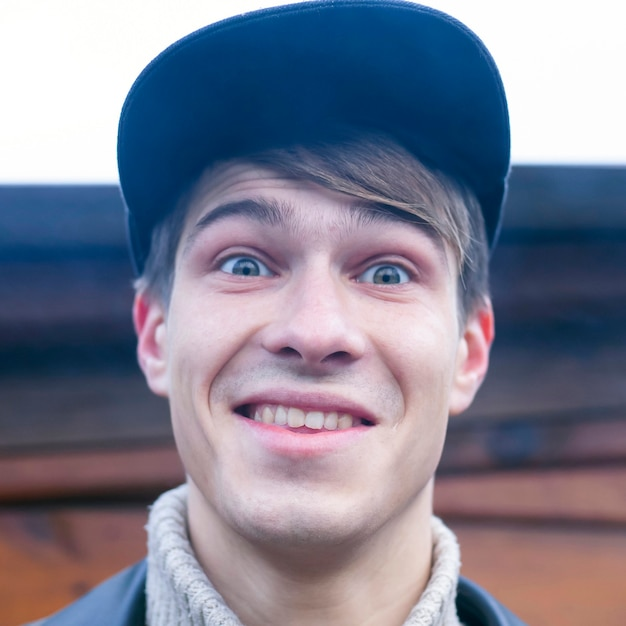teen: (118, 17, 525, 569)
